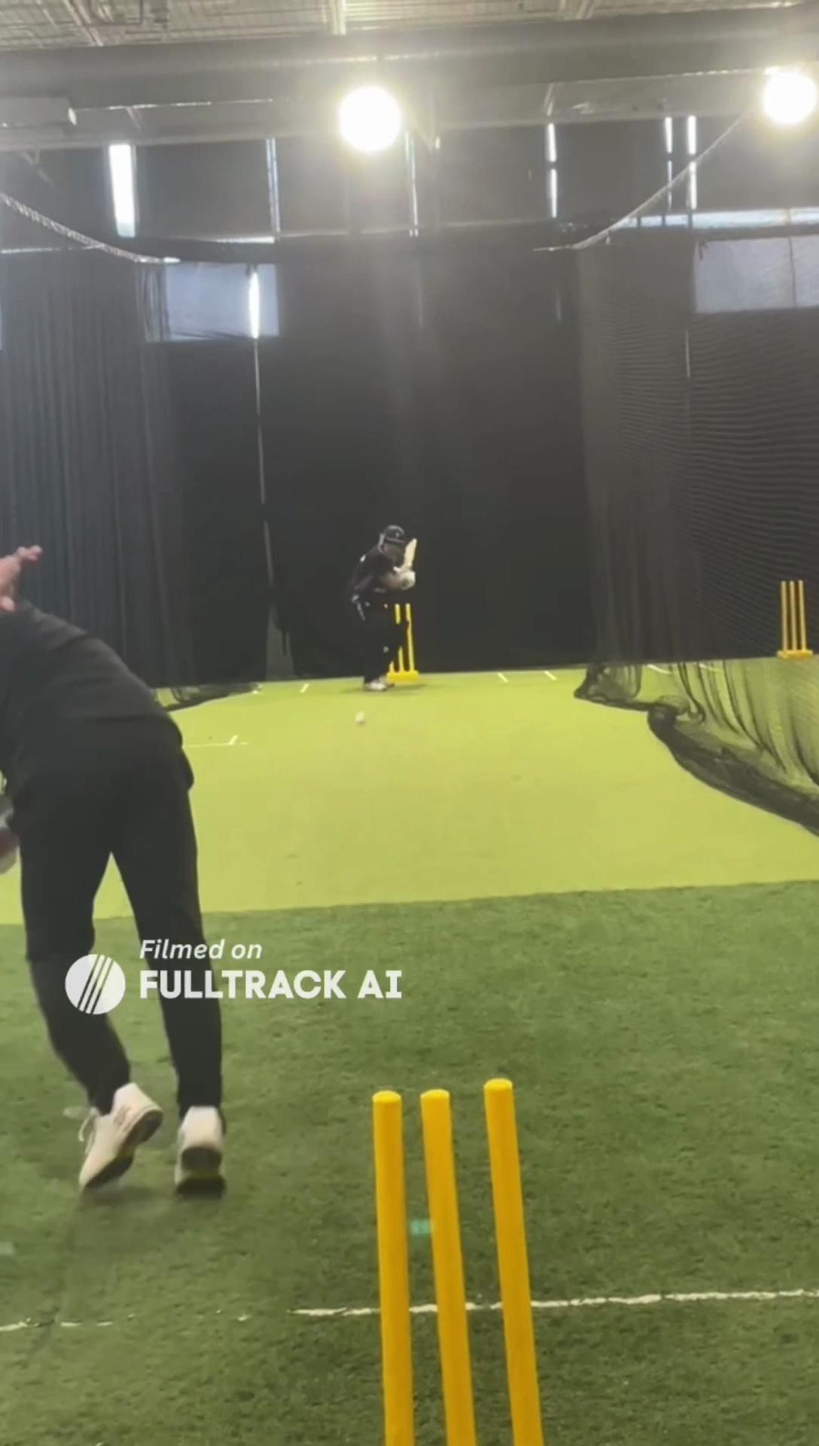ball: (351, 711, 369, 727)
